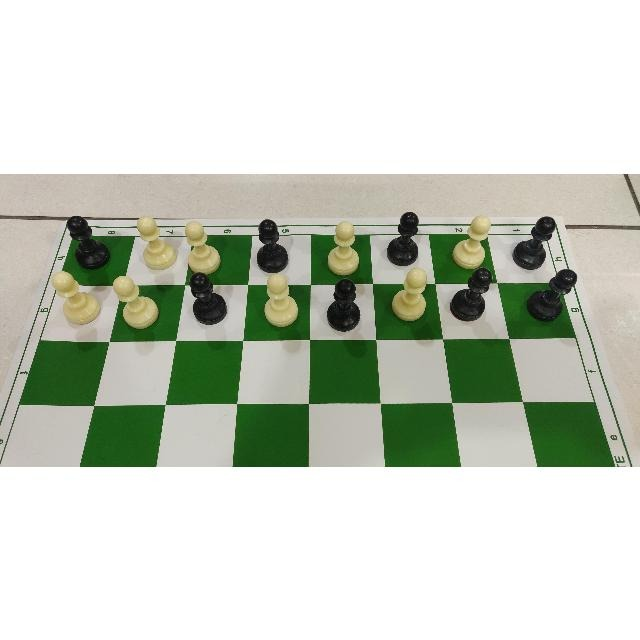black-pawn: (62, 214, 114, 272), (524, 268, 578, 322), (179, 266, 229, 324), (447, 265, 495, 323), (509, 216, 558, 270), (253, 218, 296, 272), (386, 210, 426, 265), (325, 276, 364, 330)
white-pawn: (47, 270, 105, 326), (110, 274, 164, 330), (132, 213, 180, 271), (447, 214, 493, 270), (390, 266, 436, 322), (183, 216, 223, 273), (263, 271, 301, 328), (324, 221, 362, 275)
